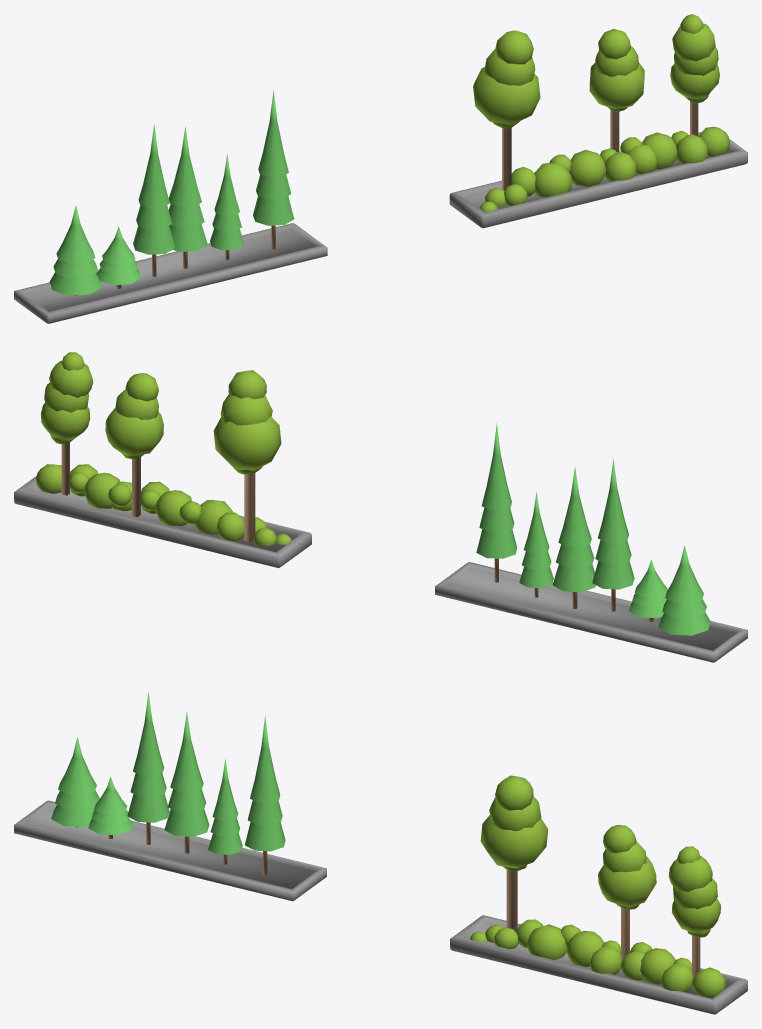
File: different trees.fbx
The picture shows the model from 3 angles, top to bottom: view 1: azimuth 30°, elevation 25°; view 2: azimuth 150°, elevation 25°; view 3: azimuth 330°, elevation 25°; orthographic projection.
Visible parts, largest first — view 1: Cube_7, Bed_4, Tree_3_2, Tree_2_2, Tree_1_2, Firtree_4, Firtree_2, Firtree_1, Bushes_4, Firtree_47, Bushes_2_3, Bushes_15_2 (+2 smaller); view 2: Cube_7, Bed_4, Tree_3_2, Tree_2_2, Tree_1_2, Firtree_1, Firtree_4, Firtree_2, Firtree_47, Bushes_2_3, Bushes_15_2, Bushes_4 (+2 smaller); view 3: Cube_7, Bed_4, Tree_3_2, Tree_2_2, Tree_1_2, Firtree_1, Firtree_4, Firtree_2, Bushes_2_3, Bushes_4, Firtree_47, Bushes_15_2 (+2 smaller).
Boxes of the visible parts, left/top/right/bottom form: Cube_7: left=14, top=223, right=327, bottom=323; Bed_4: left=449, top=132, right=747, bottom=228; Tree_3_2: left=473, top=30, right=540, bottom=190; Tree_2_2: left=589, top=29, right=644, bottom=152; Tree_1_2: left=670, top=14, right=719, bottom=136; Firtree_4: left=253, top=90, right=294, bottom=249; Firtree_2: left=133, top=124, right=175, bottom=276; Firtree_1: left=168, top=126, right=207, bottom=268; Bushes_4: left=549, top=144, right=656, bottom=186; Firtree_47: left=49, top=205, right=101, bottom=295; Bushes_2_3: left=620, top=126, right=729, bottom=169; Bushes_15_2: left=480, top=162, right=572, bottom=212; Cube_7: left=435, top=562, right=747, bottom=662; Bed_4: left=14, top=476, right=311, bottom=568; Tree_3_2: left=213, top=370, right=281, bottom=542; Tree_2_2: left=105, top=373, right=163, bottom=517; Tree_1_2: left=41, top=352, right=93, bottom=495; Firtree_1: left=552, top=467, right=595, bottom=608; Firtree_4: left=476, top=423, right=517, bottom=582; Firtree_2: left=592, top=458, right=634, bottom=611; Firtree_47: left=658, top=545, right=710, bottom=635; Bushes_2_3: left=36, top=464, right=131, bottom=508; Bushes_15_2: left=194, top=500, right=291, bottom=546; Bushes_4: left=111, top=481, right=201, bottom=526; Cube_7: left=14, top=800, right=326, bottom=900; Bed_4: left=450, top=915, right=747, bottom=1014; Tree_3_2: left=480, top=775, right=548, bottom=932; Tree_2_2: left=598, top=825, right=656, bottom=960; Tree_1_2: left=668, top=846, right=720, bottom=986; Firtree_1: left=164, top=712, right=209, bottom=853; Firtree_4: left=245, top=715, right=285, bottom=874; Firtree_2: left=127, top=692, right=169, bottom=844; Bushes_2_3: left=630, top=942, right=725, bottom=997; Bushes_4: left=560, top=924, right=645, bottom=980; Firtree_47: left=51, top=737, right=99, bottom=827; Bushes_15_2: left=470, top=919, right=566, bottom=959.
Size of the model in its own units: 903 by 224 by 85.68.
